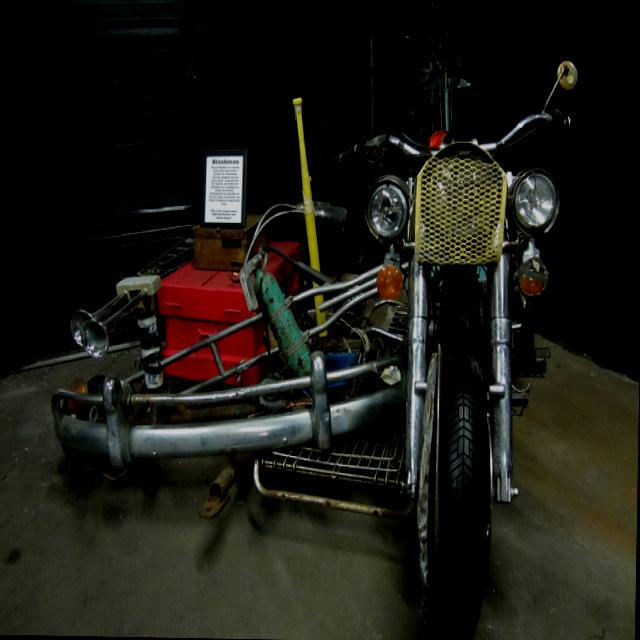Vehicle: (313, 53, 593, 629)
